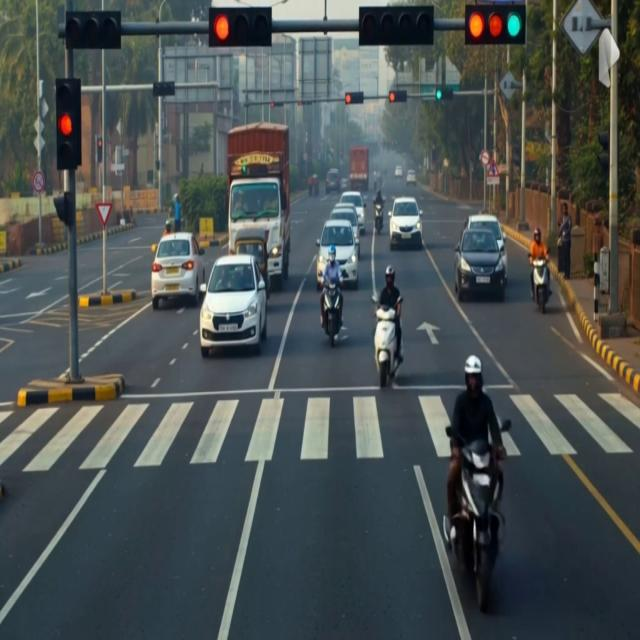car: (200, 254, 266, 358), (151, 232, 205, 310), (455, 228, 505, 301), (316, 220, 359, 290), (464, 215, 507, 279), (388, 197, 422, 250), (340, 192, 365, 235), (330, 204, 359, 239), (326, 169, 340, 194), (407, 170, 416, 185), (341, 178, 348, 191), (395, 166, 402, 177)
scooty: (443, 427, 503, 612), (372, 296, 399, 388), (323, 281, 341, 347), (533, 259, 549, 313), (375, 201, 383, 234)
traffic signal: (359, 6, 433, 46), (465, 4, 525, 45), (209, 8, 272, 47), (55, 79, 81, 170), (65, 11, 121, 49), (53, 192, 74, 227), (598, 131, 609, 172), (152, 82, 175, 97), (389, 90, 407, 103), (345, 92, 363, 104), (435, 88, 453, 100), (96, 136, 102, 163), (270, 102, 283, 108), (298, 101, 312, 106)
truck: (227, 122, 290, 289), (349, 147, 369, 191)
